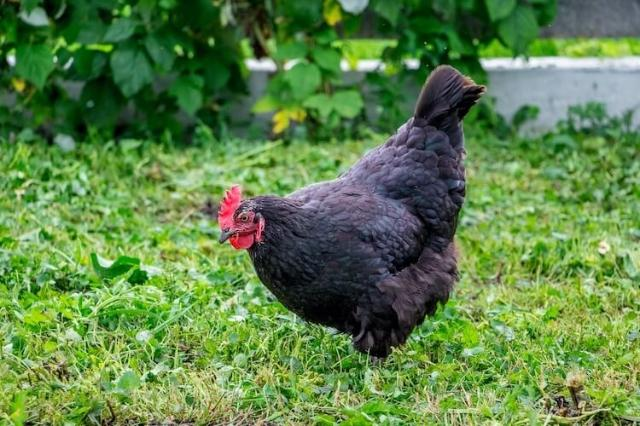Chicken: (217, 64, 488, 366)
